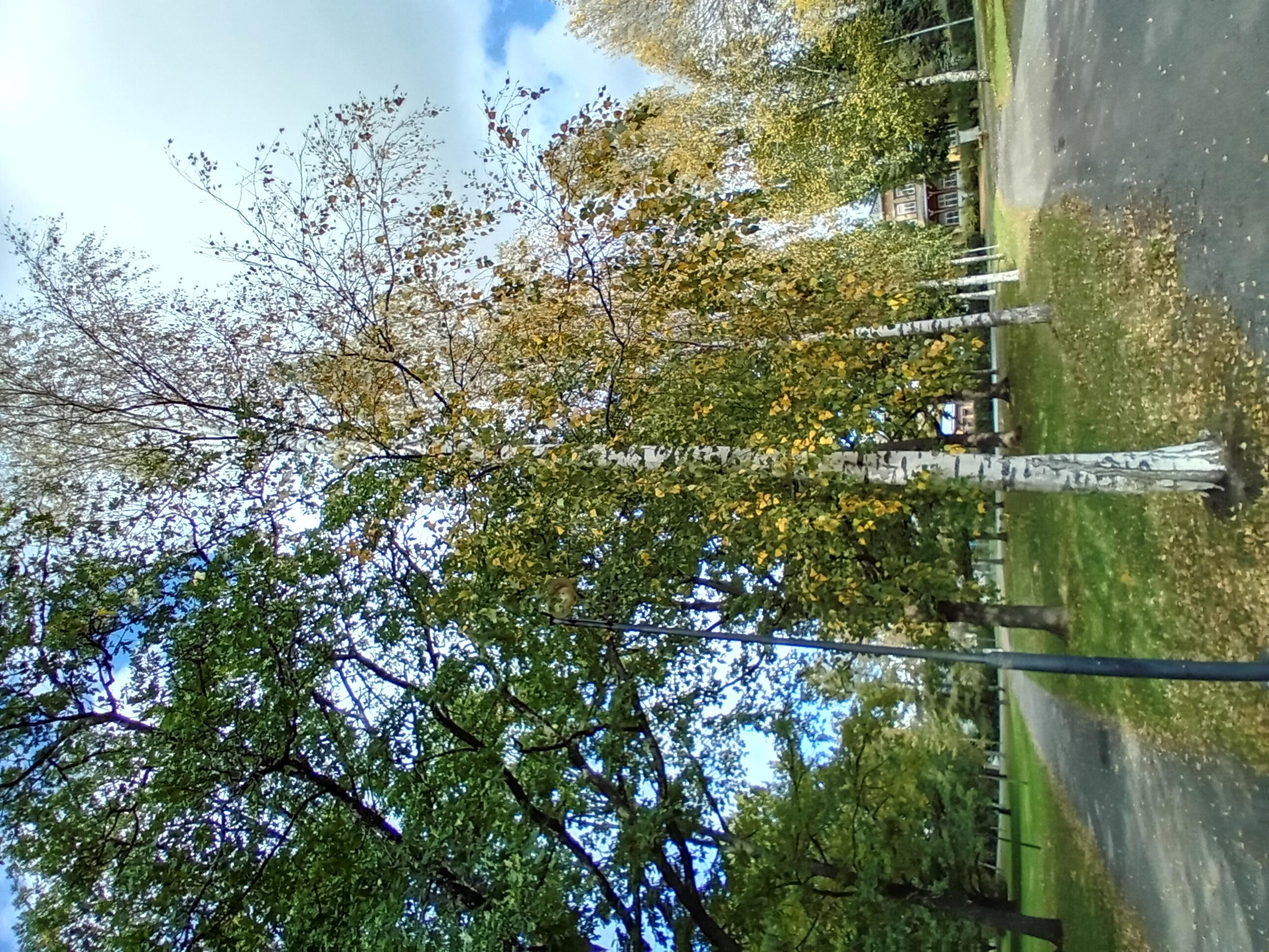Birch: (434, 3, 794, 924), (668, 191, 969, 810), (1068, 516, 1269, 752)
